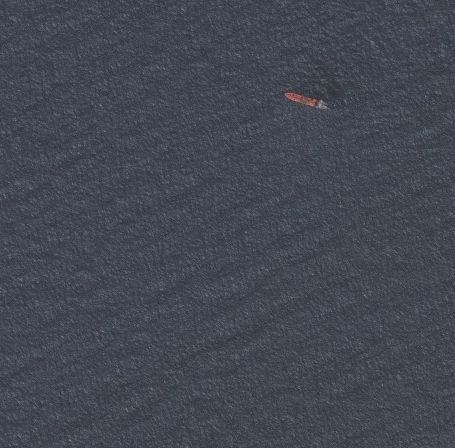ship: (281, 88, 331, 113)
